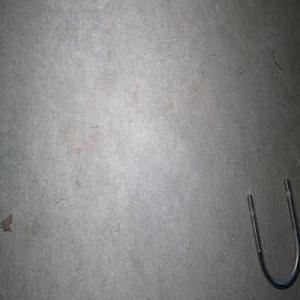ClampPart: (245, 176, 300, 290)
